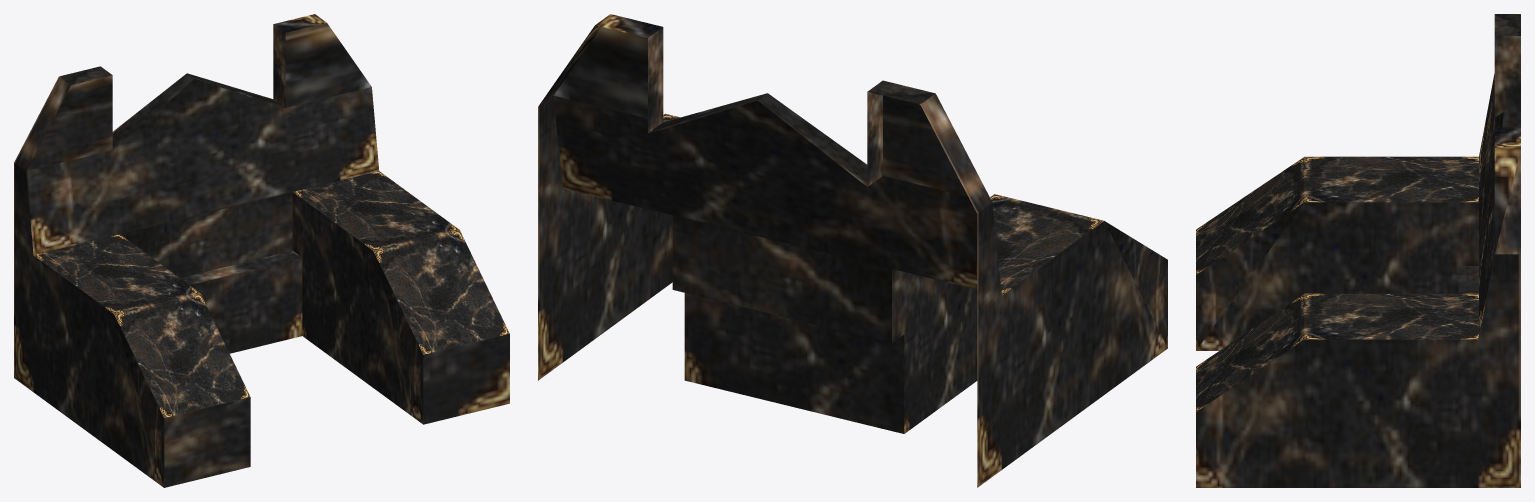
The picture shows the model from 3 angles, left to right: view 1: azimuth 30°, elevation 25°; view 2: azimuth 150°, elevation 25°; view 3: azimuth 270°, elevation 25°; orthographic projection. The views are drawn at different scales.
Parts seen in each view (by area): view 1: a22; view 2: a22; view 3: a22.
Boxes of the visible parts, left/top/right/bottom form: a22: left=14, top=14, right=509, bottom=487; a22: left=538, top=14, right=1167, bottom=487; a22: left=1196, top=14, right=1520, bottom=487.
Size of the model in its own units: 1016 by 817 by 764.
